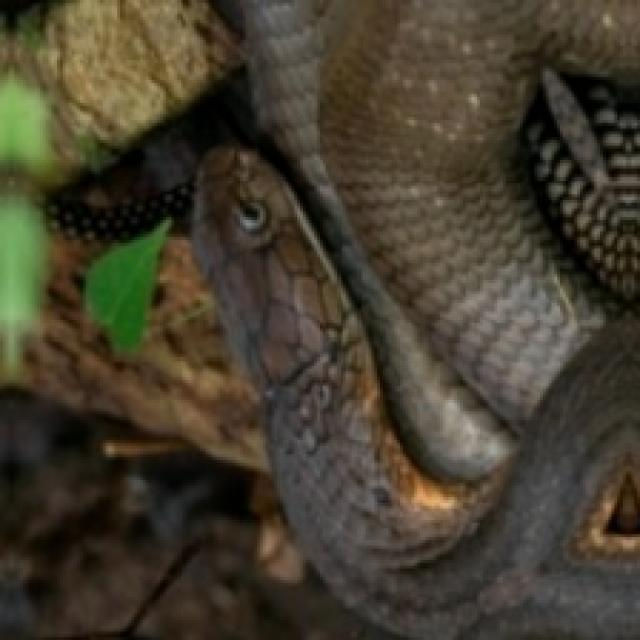king cobra: (192, 0, 640, 640)
